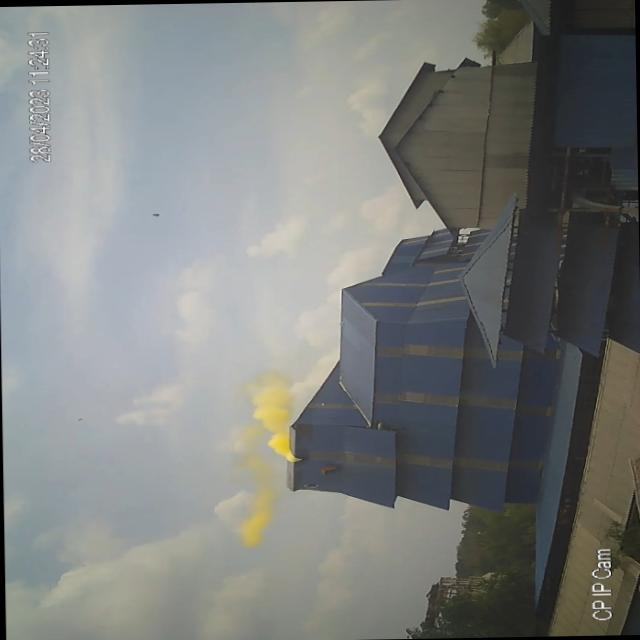yellow smoke: (213, 353, 338, 550), (222, 370, 302, 548), (242, 372, 300, 463)
